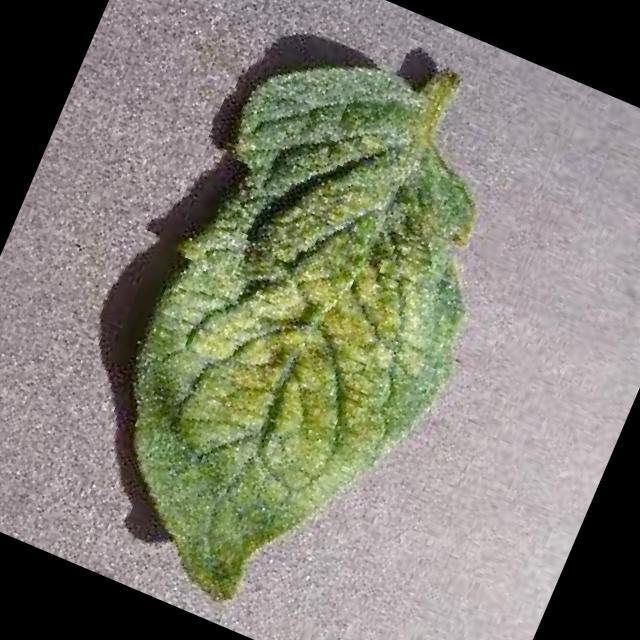Tomato spider mites leaf: (51, 25, 544, 640)
